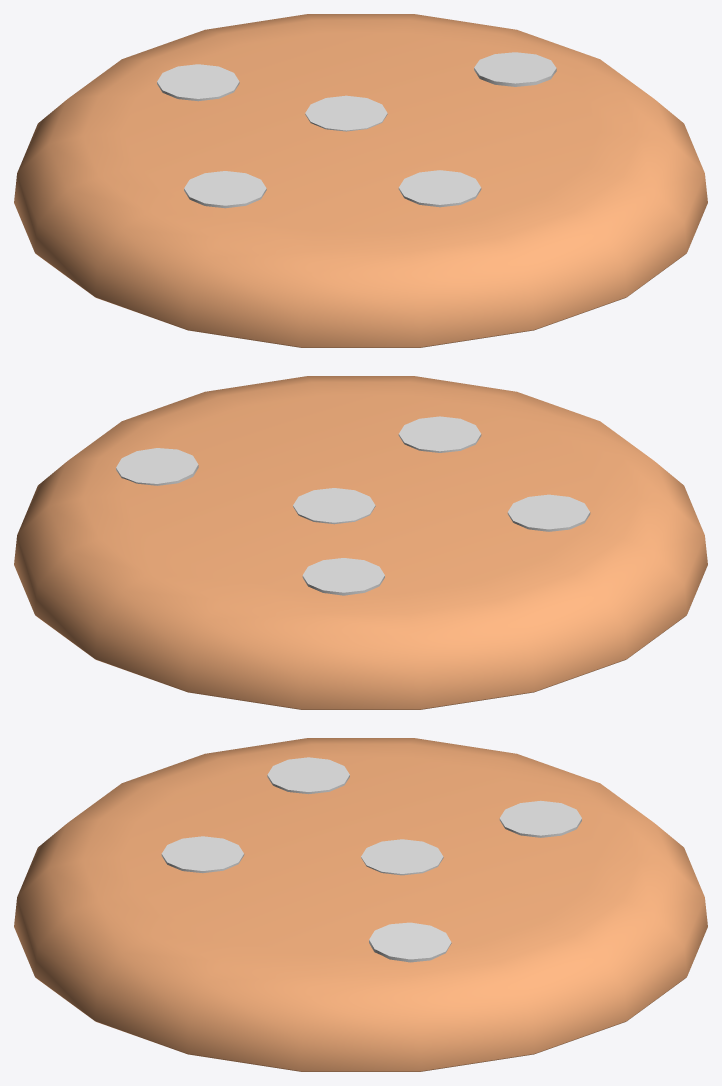
The model's file is cookie.fbx.
3 renders of one model, top to bottom at view 1: azimuth 30°, elevation 25°; view 2: azimuth 150°, elevation 25°; view 3: azimuth 270°, elevation 25°, orthographic.
Parts seen in each view (by area): view 1: cookie, chips; view 2: cookie, chips; view 3: cookie, chips.
Boxes of the visible parts, left/top/right/bottom form: cookie: left=14, top=14, right=707, bottom=347; chips: left=157, top=52, right=556, bottom=208; cookie: left=14, top=376, right=707, bottom=709; chips: left=116, top=416, right=590, bottom=595; cookie: left=14, top=738, right=707, bottom=1071; chips: left=161, top=757, right=581, bottom=962.
Size of the model in its own units: 219 by 26.85 by 222.
